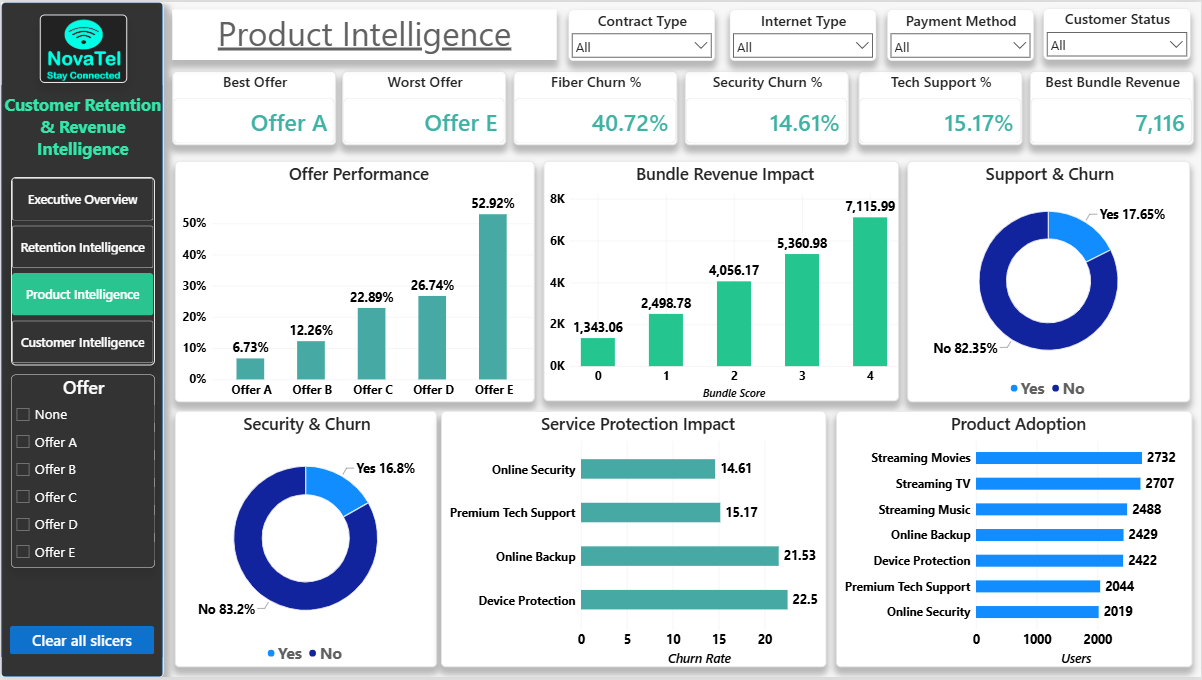

This screenshot's page, from the dashboard's own definition file:
{"tool":"powerbi","page":{"name":"Product Intelligence","canvas":[1920,1080],"ordinal":2},"visuals":[{"type":"shape","box":[0,0,259.6,1080.8],"z":0},{"type":"image","box":[61.5,19.2,140.4,109.6],"z":1000},{"type":"textbox","box":[1.9,146.2,257.7,107.7],"z":2000},{"type":"pageNavigator","box":[15.4,280.8,230.8,301.9],"z":3000},{"type":"cardVisual","title":"Best Offer","fields":{"Data":["Customer Churn.Best Offer"]},"box":[273,109,262,119],"z":4000},{"type":"cardVisual","title":"Worst Offer","fields":{"Data":["Customer Churn.Worst Offer"]},"box":[545,109,262,119],"z":5000},{"type":"cardVisual","title":"Fiber Churn %","fields":{"Data":["Customer Churn.Fiber Churn %"]},"box":[819,109,262,119],"z":6000},{"type":"cardVisual","title":"Security Churn %","fields":{"Data":["Customer Churn.Security Churn %"]},"box":[1093,109,262,119],"z":7000},{"type":"cardVisual","title":"Tech Support %","fields":{"Data":["Customer Churn.Tech Support %"]},"box":[1372,109,262,119],"z":8000},{"type":"cardVisual","title":"Best Bundle Revenue","fields":{"Data":["Customer Churn.Top Bundle Revenue"]},"box":[1646,109,262,119],"z":9000},{"type":"clusteredColumnChart","title":"Offer Performance","fields":{"Category":["Customer Churn.Offer"],"Y":["Customer Churn.Churn Rate"]},"box":[277.9,254,576.1,386.5],"z":10000},{"type":"donutChart","title":"Security & Churn","fields":{"Category":["Customer Churn.Online Security"],"Y":["CountNonNull(Customer Churn.Customer ID)"]},"box":[277.9,653.4,419.6,410.4],"z":11000},{"type":"clusteredColumnChart","title":"Bundle Revenue Impact","fields":{"Category":["Customer Churn.Bundle Score"],"Y":["Avg(Customer Churn.Total Revenue)"]},"box":[868.7,254,568.7,384.7],"z":12000},{"type":"slicer","title":"Contract Type","fields":{"Values":["Customer Churn.Contract"]},"box":[907.7,11.5,234.6,82.7],"z":13000},{"type":"slicer","title":"Internet Type","fields":{"Values":["Customer Churn.Internet Type"]},"box":[1165.4,11.5,234.6,82.7],"z":14000},{"type":"slicer","title":"Payment Method","fields":{"Values":["Customer Churn.Payment Method"]},"box":[1417.3,11.5,234.6,82.7],"z":15000},{"type":"slicer","title":"Customer Status","fields":{"Values":["Customer Churn.Customer Status"]},"box":[1667.3,9.6,235,82],"z":16000},{"type":"slicer","title":"Offer","fields":{"Values":["Customer Churn.Offer"]},"box":[15.4,596.2,230.8,309.6],"z":17000},{"type":"textbox","box":[273.1,11.5,615.4,80.8],"z":18000},{"type":"donutChart","title":"Support & Churn","fields":{"Category":["Customer Churn.Premium Tech Support"],"Y":["CountNonNull(Customer Churn.Customer ID)"]},"box":[1450.3,254,452.8,386.5],"z":19000},{"type":"clusteredBarChart","title":"Service Protection Impact","fields":{"Category":["Sheet1.Service"],"Y":["Sum(Sheet1.Churn Rate)"]},"box":[703.1,653.4,616.6,410.4],"z":20000},{"type":"clusteredBarChart","title":"Product Adoption","fields":{"Category":["Product Adoption.Service"],"Y":["Sum(Product Adoption.Users)"]},"box":[1336.2,653.4,570.6,410.4],"z":21000},{"type":"actionButton","title":"Reset","box":[14.6,997.9,231.2,45.8],"z":22000}]}

Visuals, with their boxes in screenshot pixels (x1, y1, x2, y2), scaled from the page's 1920x1080 canvas onto the 1202x680 screenshot:
shape: bbox(0, 0, 163, 679)
image: bbox(39, 12, 126, 81)
textbox: bbox(1, 92, 163, 160)
pageNavigator: bbox(10, 177, 154, 367)
"Best Offer" cardVisual: bbox(171, 69, 335, 144)
"Worst Offer" cardVisual: bbox(341, 69, 505, 144)
"Fiber Churn %" cardVisual: bbox(513, 69, 677, 144)
"Security Churn %" cardVisual: bbox(684, 69, 848, 144)
"Tech Support %" cardVisual: bbox(859, 69, 1023, 144)
"Best Bundle Revenue" cardVisual: bbox(1030, 69, 1194, 144)
"Offer Performance" clusteredColumnChart: bbox(174, 160, 535, 403)
"Security & Churn" donutChart: bbox(174, 411, 437, 670)
"Bundle Revenue Impact" clusteredColumnChart: bbox(544, 160, 900, 402)
"Contract Type" slicer: bbox(568, 7, 715, 59)
"Internet Type" slicer: bbox(730, 7, 876, 59)
"Payment Method" slicer: bbox(887, 7, 1034, 59)
"Customer Status" slicer: bbox(1044, 6, 1191, 58)
"Offer" slicer: bbox(10, 375, 154, 570)
textbox: bbox(171, 7, 556, 58)
"Support & Churn" donutChart: bbox(908, 160, 1191, 403)
"Service Protection Impact" clusteredBarChart: bbox(440, 411, 826, 670)
"Product Adoption" clusteredBarChart: bbox(837, 411, 1194, 670)
"Reset" actionButton: bbox(9, 628, 154, 657)
